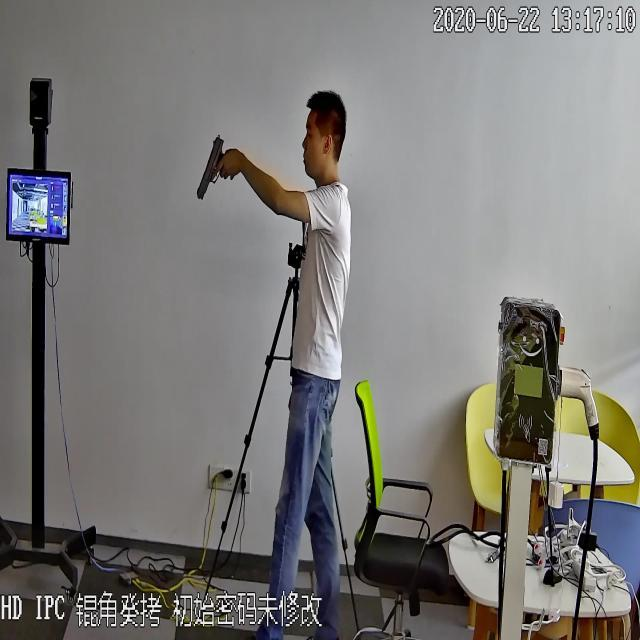gun-knife-thesis - v11 Yolov5 augmented: (196, 134, 240, 202)
